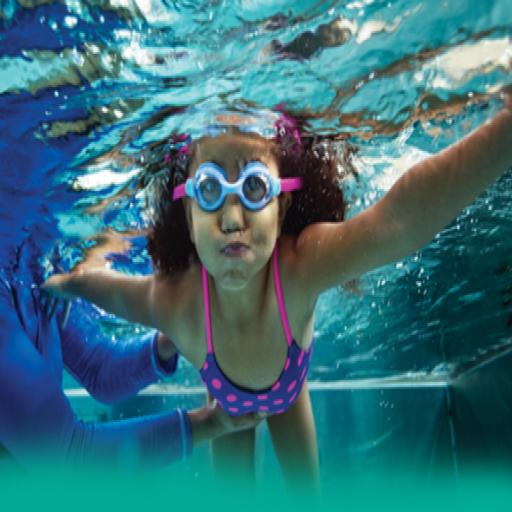swimming: (31, 76, 511, 508)
